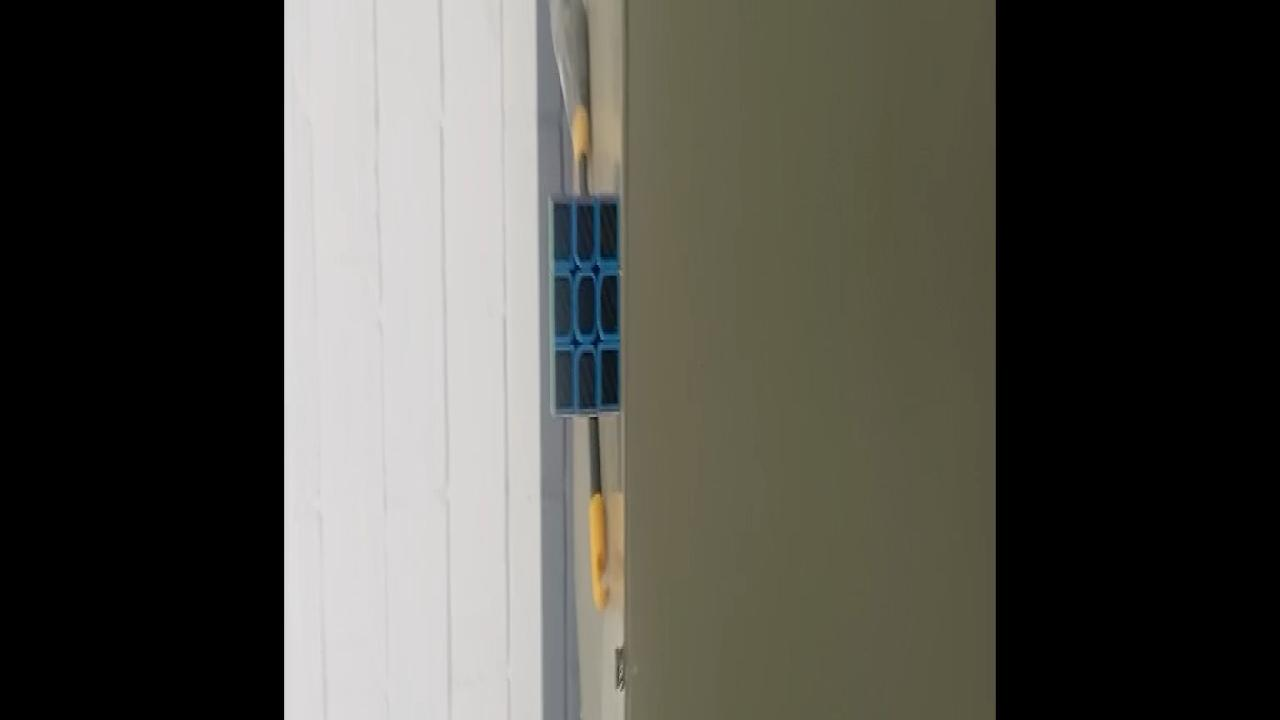Cube: (547, 192, 621, 424)
